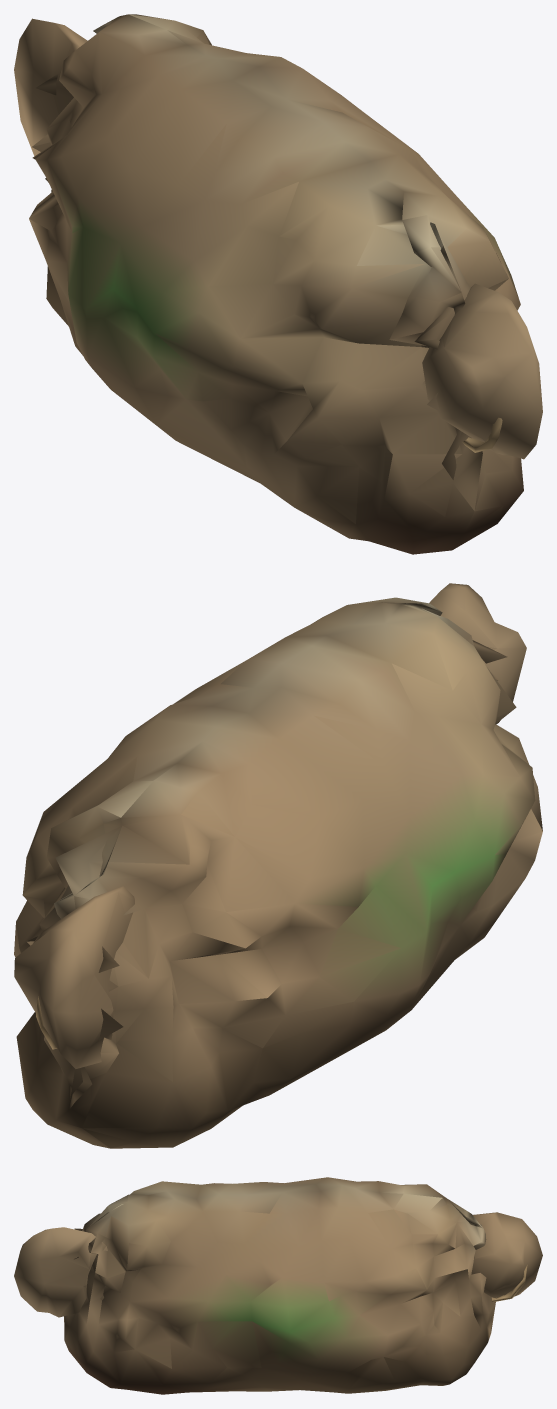
File: canopy_burlap_sack_lod1.glb
3 renders of one model, top to bottom at view 1: azimuth 30°, elevation 25°; view 2: azimuth 150°, elevation 25°; view 3: azimuth 270°, elevation 25°, orthographic. The views are drawn at different scales.
Visible parts, largest first — view 1: canopy_burlap_sack.001; view 2: canopy_burlap_sack.001; view 3: canopy_burlap_sack.001.
Boxes of the visible parts, box(x1,y1,x2,y2) form: canopy_burlap_sack.001: box(14, 14, 542, 554); canopy_burlap_sack.001: box(14, 583, 542, 1148); canopy_burlap_sack.001: box(14, 1177, 542, 1394).
Bounding box in the file's own units: 6.11 × 5.5 × 13.97.
